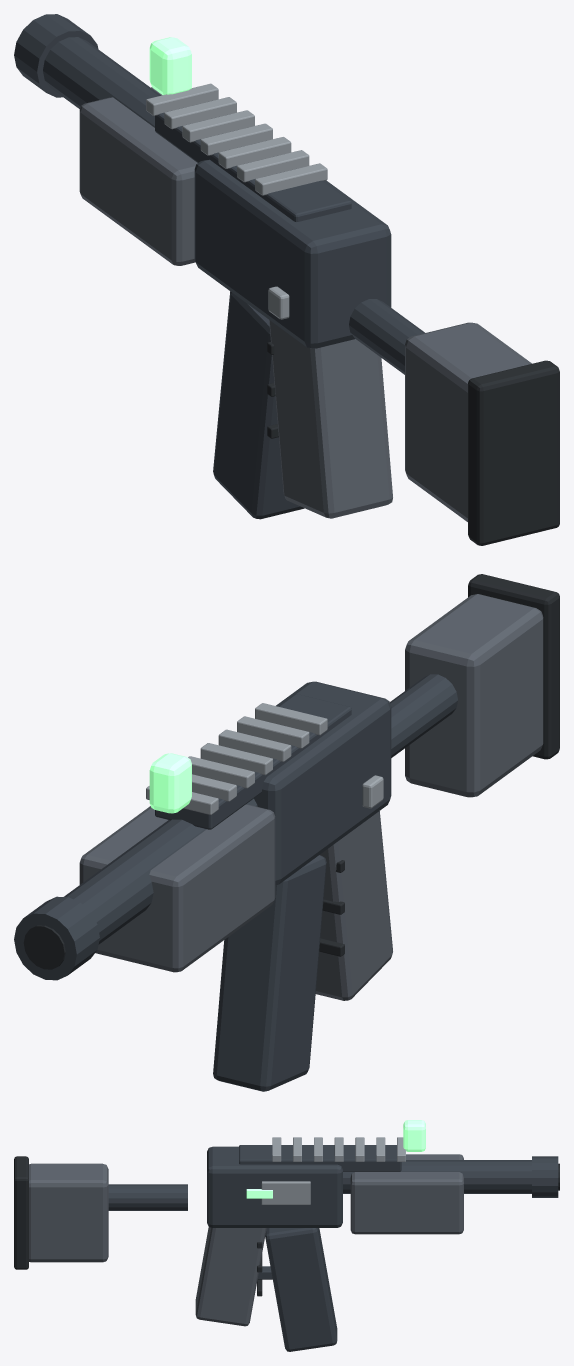
Rendered from subfusil.glb.
The picture shows the model from 3 angles, top to bottom: view 1: azimuth 30°, elevation 25°; view 2: azimuth 150°, elevation 25°; view 3: azimuth 270°, elevation 25°; orthographic projection. The views are drawn at different scales.
Visible parts, largest first — view 1: Arma_subfusil; view 2: Arma_subfusil; view 3: Arma_subfusil.
Part boxes in pixels (bbox=[...]): Arma_subfusil: bbox=[14, 14, 559, 545]; Arma_subfusil: bbox=[14, 574, 559, 1091]; Arma_subfusil: bbox=[14, 1120, 559, 1351].
Bounding box in the file's own units: 0.181 × 0.652 × 1.44.
